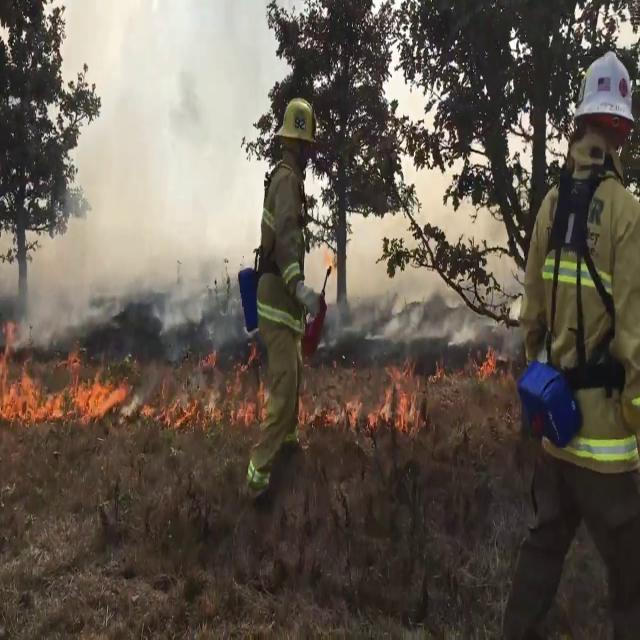Fire: (0, 320, 127, 430), (194, 342, 272, 429), (370, 356, 422, 434), (478, 338, 498, 381)
Smoke: (11, 0, 272, 332)
